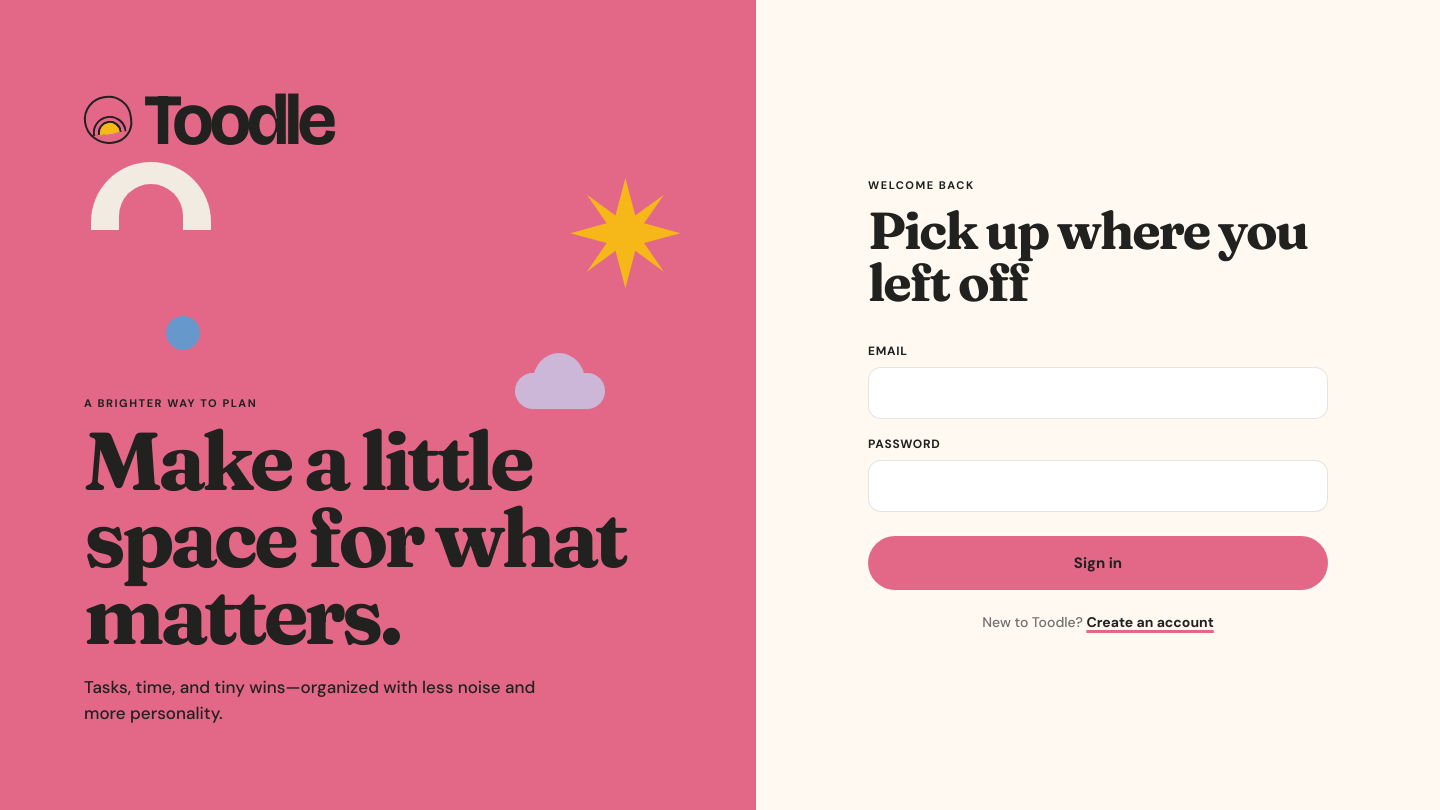
Scenario: AuthForm › shows an accessible error when login fails
Type "meg@example.com" into the field labelled "Email".
click(1098, 392); type("meg@example.com")  # box [868, 366, 1328, 418]
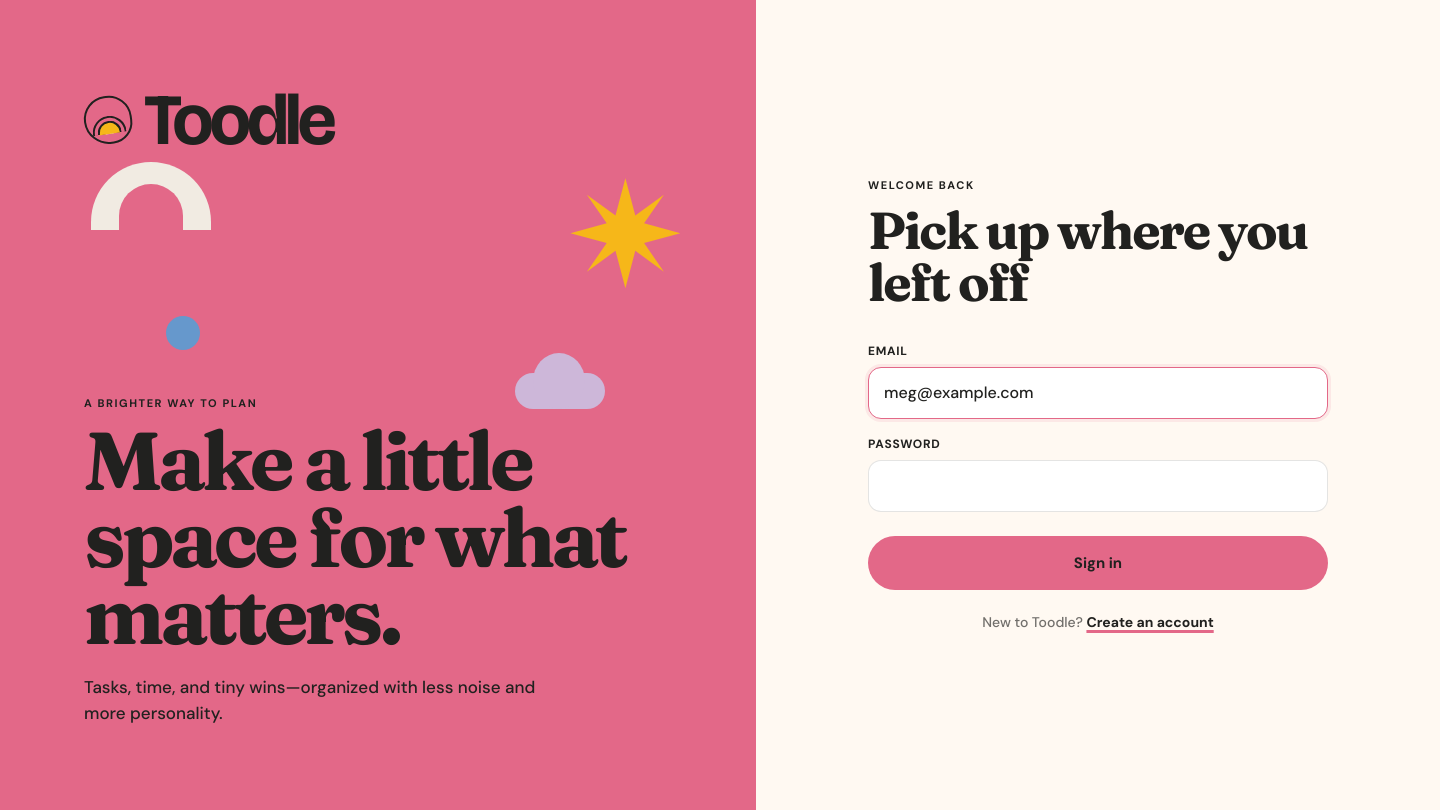
Type "password123" into the password field labelled "Password".
click(1098, 486); type("password123")  # box [868, 460, 1328, 512]
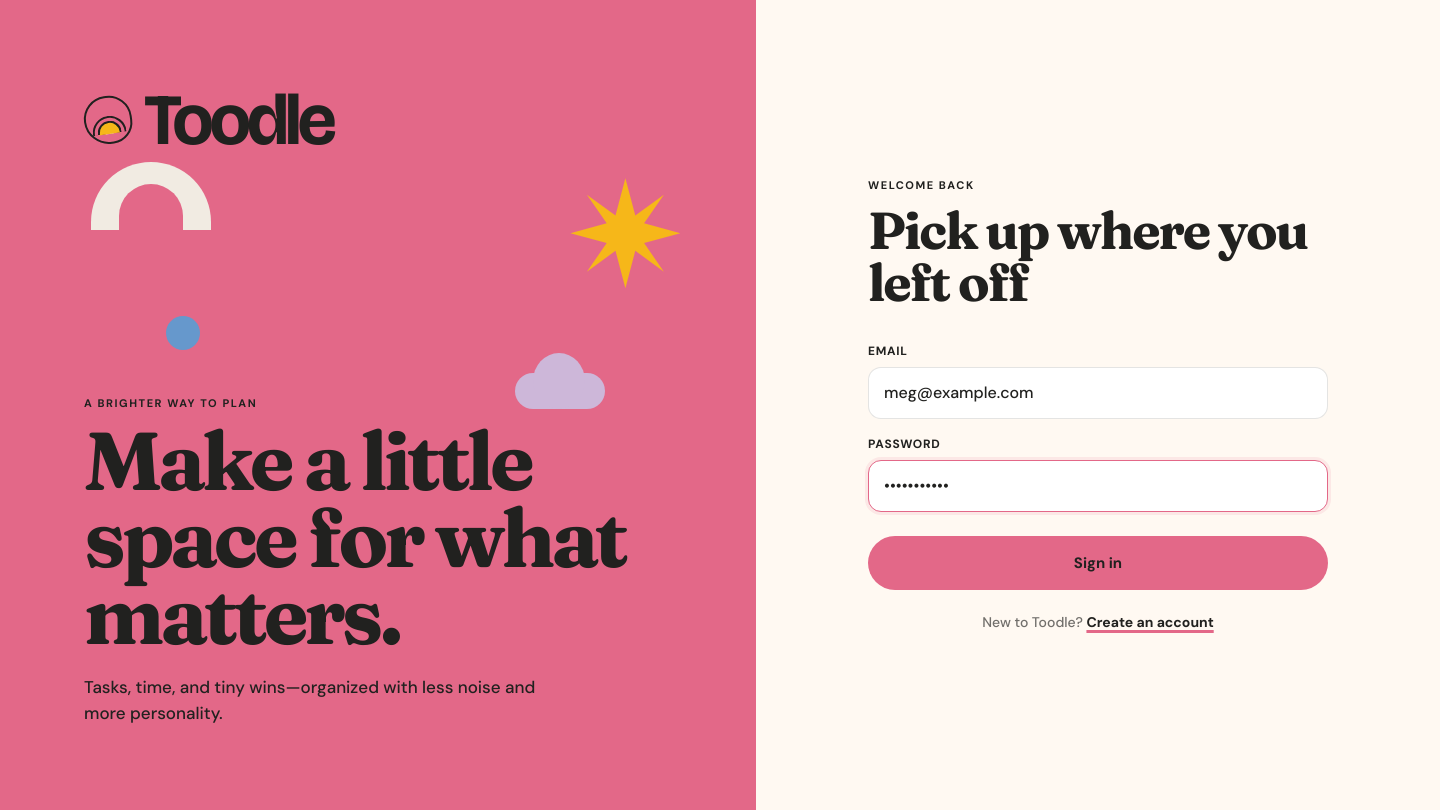
Click the button "Sign in".
click(1098, 563)  # box [868, 536, 1328, 590]
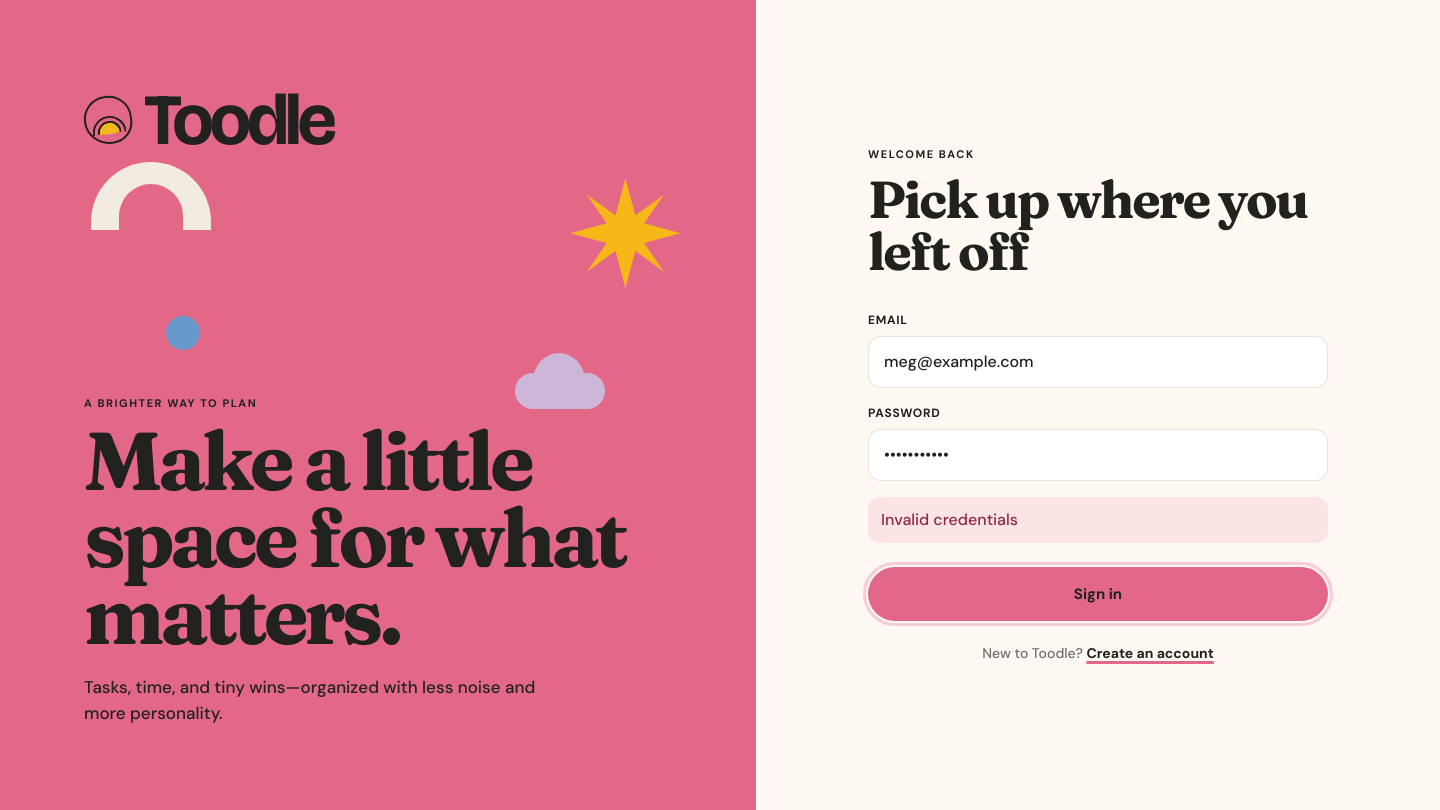
Expected: the message reads "Invalid credentials", [881, 508, 1018, 530]
